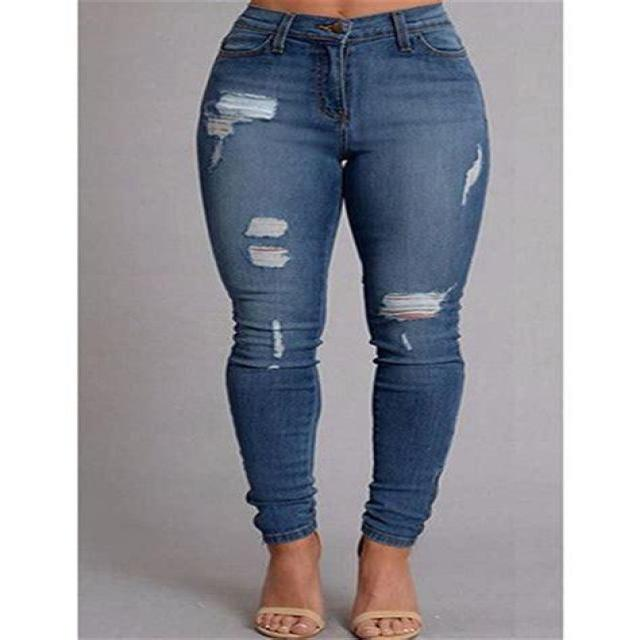pants: (195, 1, 488, 547)
